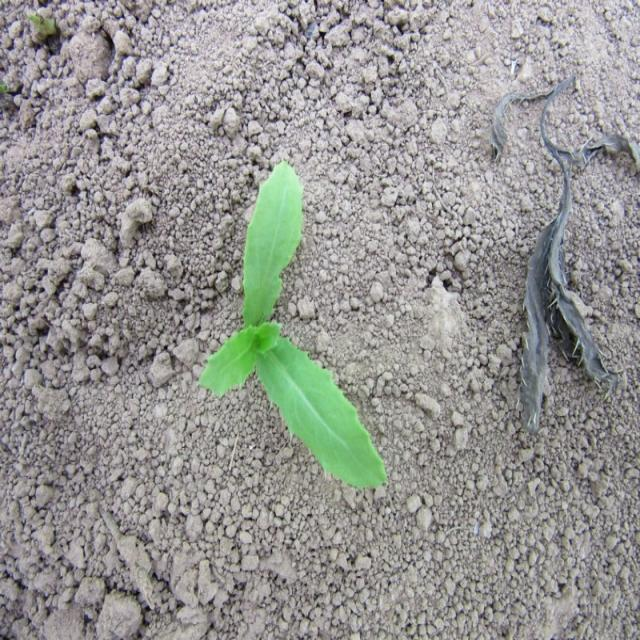field_thistle: (193, 160, 386, 491)
